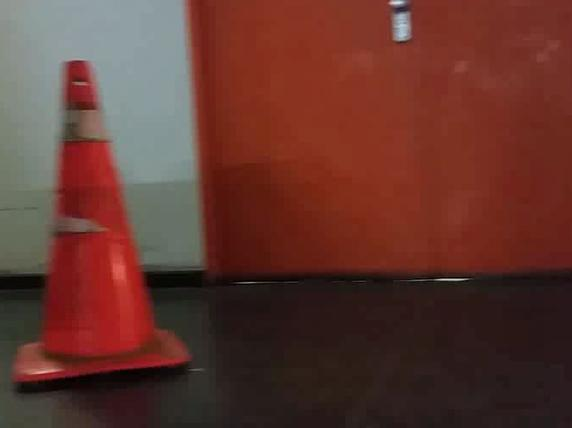0 cone: (10, 59, 192, 385)
